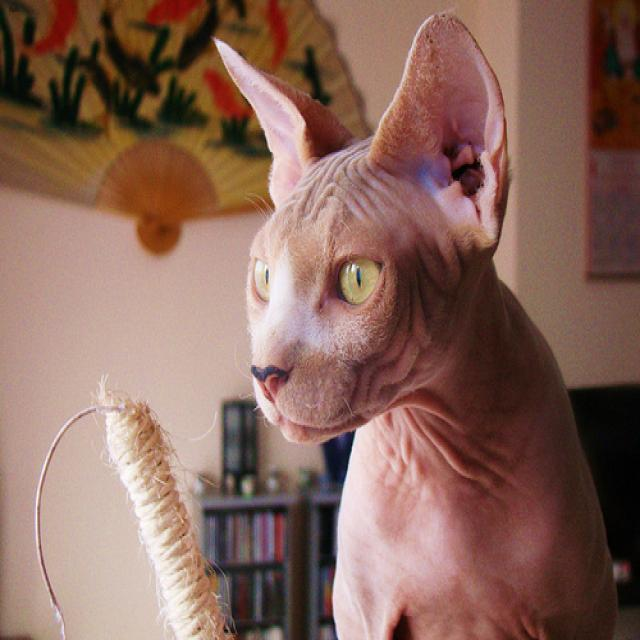Sphynx: (203, 8, 519, 449)
